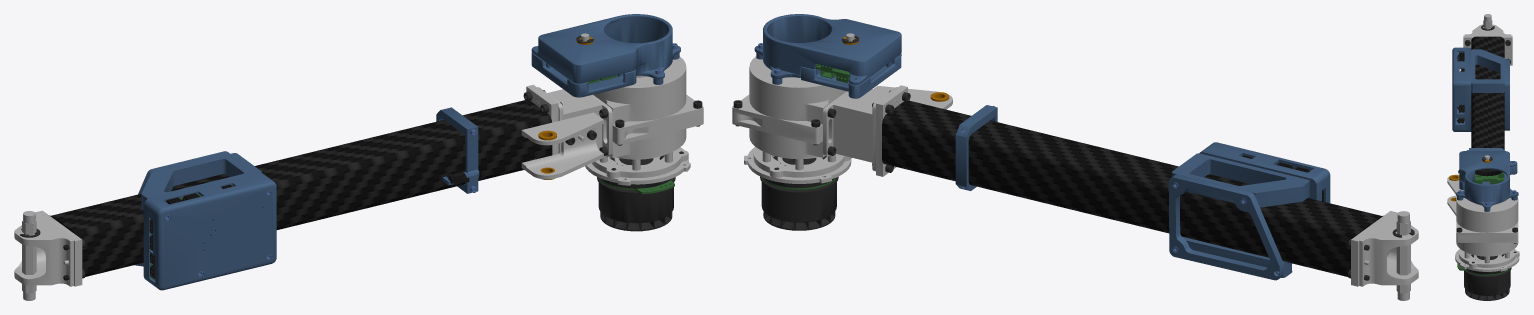
Rendered from arm_b.glb.
3 views of the same model, side by side, from view 1: azimuth 30°, elevation 25°; view 2: azimuth 150°, elevation 25°; view 3: azimuth 270°, elevation 25° (orthographic). The views are drawn at different scales.
Visible parts, largest first — view 1: 109257_A;1-MRVR26.RA.SEG.CF_BC_REDESIGN; view 2: 109257_A;1-MRVR26.RA.SEG.CF_BC_REDESIGN; view 3: 109257_A;1-MRVR26.RA.SEG.CF_BC_REDESIGN.
Boxes of the visible parts, x1,y1,x2,y2 form: 109257_A;1-MRVR26.RA.SEG.CF_BC_REDESIGN: (14,14,703,300); 109257_A;1-MRVR26.RA.SEG.CF_BC_REDESIGN: (732,14,1418,300); 109257_A;1-MRVR26.RA.SEG.CF_BC_REDESIGN: (1447,14,1519,300).
Bounding box in the file's own units: 58.17 × 16.24 × 8.87.
11 materials, 1 textured.
